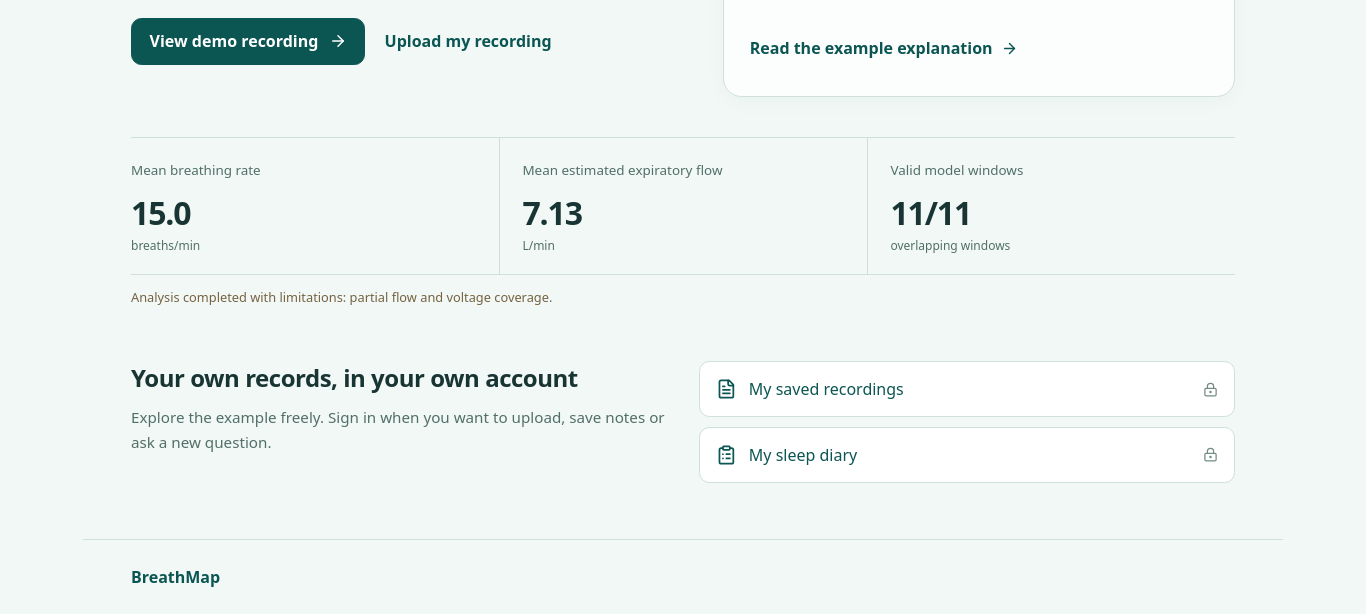
Test: public guest preview › gates overview / My saved recordings before any account action
This screenshot has width=1366, height=614.
(page scrolled)
Click the button "My saved recordings" at (826, 389), box [699, 361, 1235, 417]
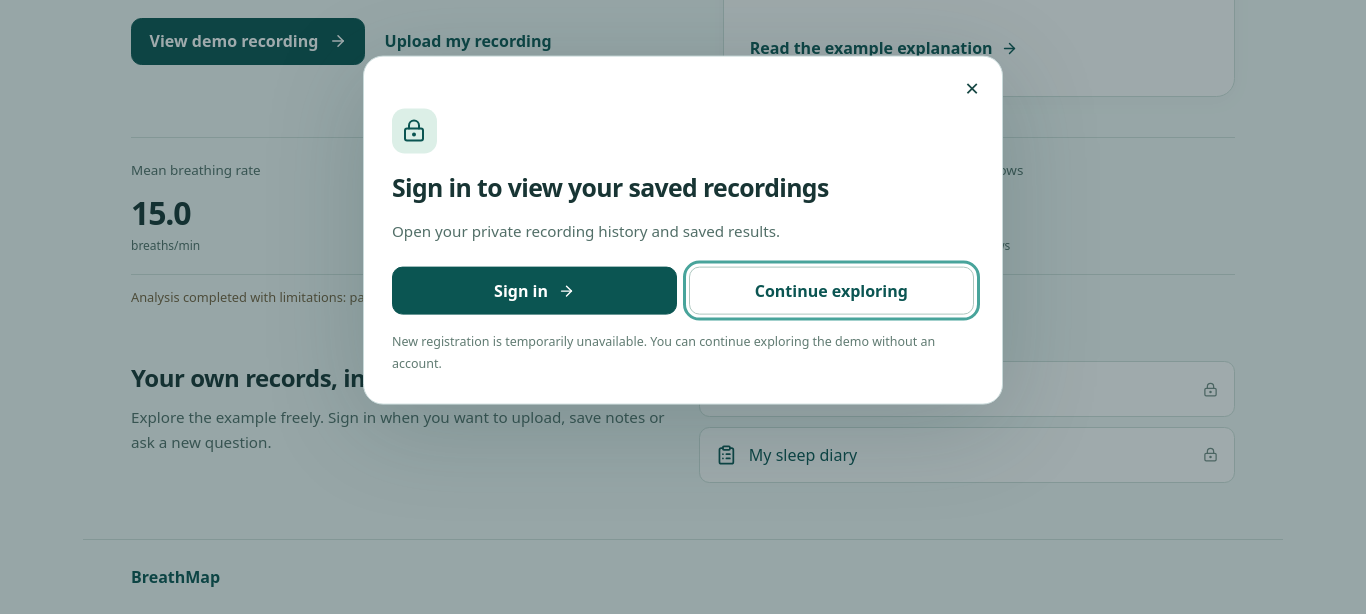
Expected: the dialog is shown, [363, 56, 1003, 404]
Expected: the dialog shows "New registration is temporarily unavailable", [392, 332, 935, 372]
Click the button "Continue exploring" at (831, 291), box [689, 267, 974, 314]
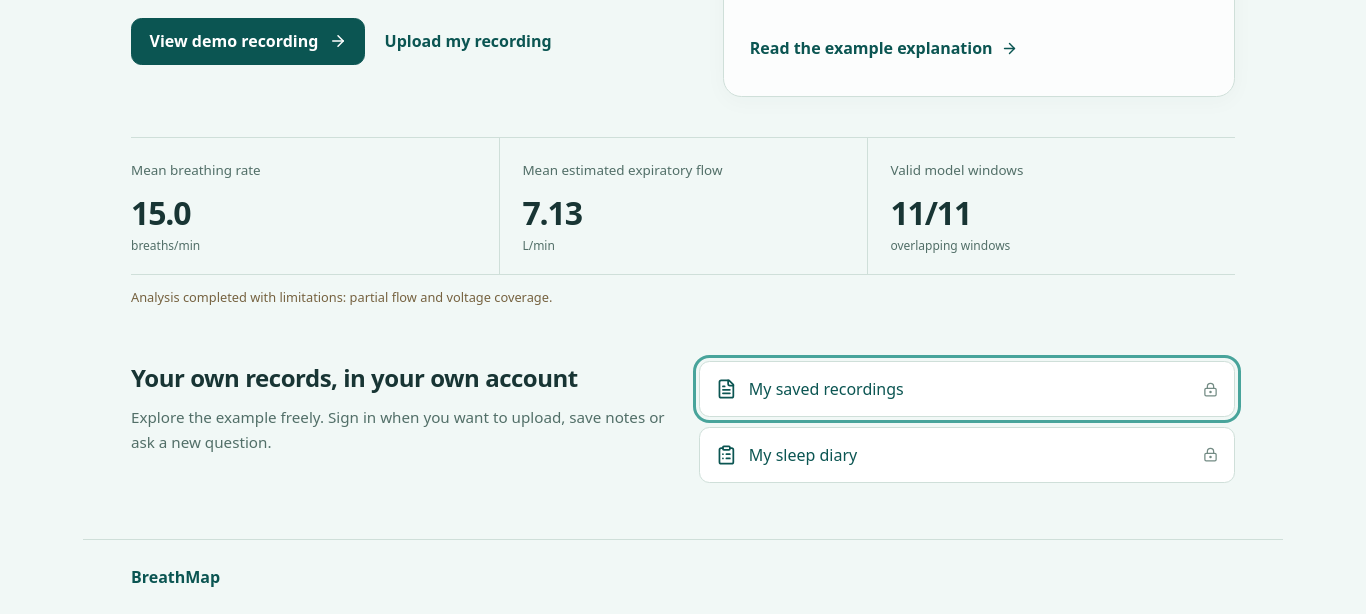
Expected: the button "×" is gone
